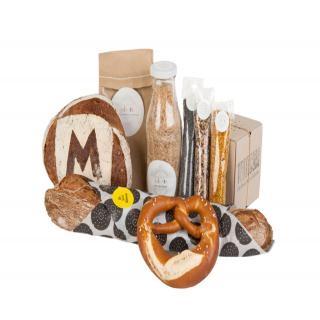Bread: (44, 173, 274, 250), (44, 96, 138, 211), (135, 196, 219, 290)
